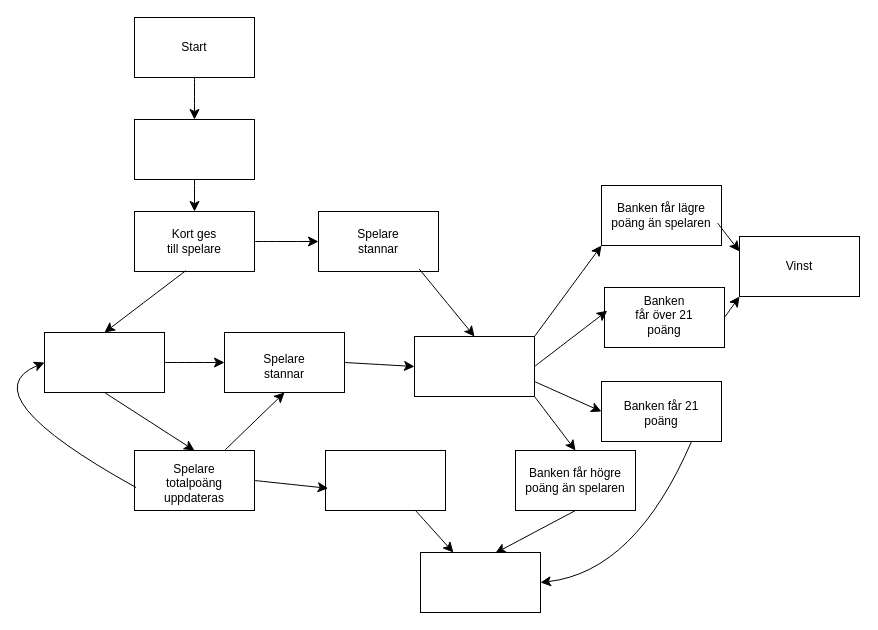
This 878x630 diagram has some shape labels left out. The shapes that lost their labels are listed below. From the top down, each one's box as (x1, y1, x2, y2) in pixels, then its label:
(134, 118, 254, 180): Kortlek blandas
(44, 332, 164, 392): Spelare drar nytt kort
(414, 336, 534, 396): Banken drar kort
(324, 450, 446, 510): Spelarens poäng går över 21
(420, 552, 540, 612): Förlust
